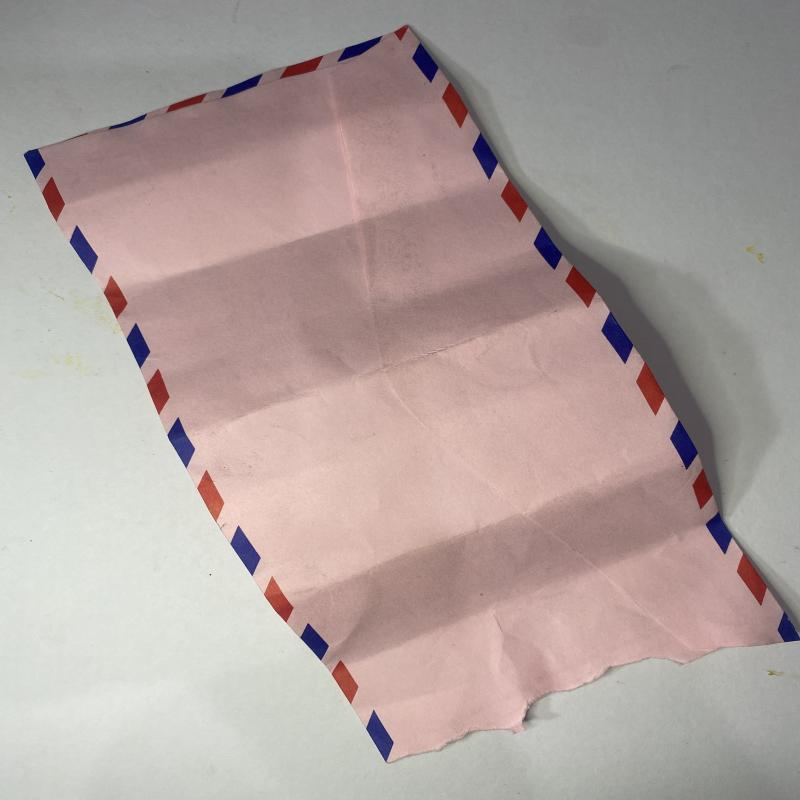paper: (26, 26, 795, 763)
